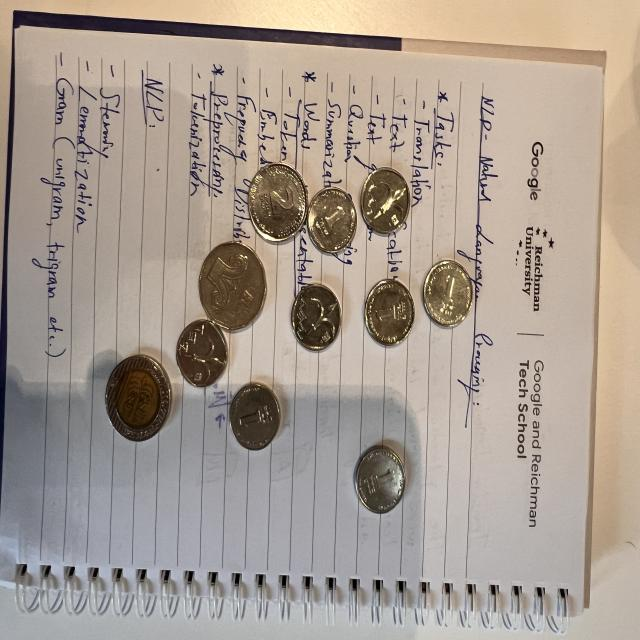1-shekel: (172, 312, 230, 389), (357, 166, 413, 243), (354, 446, 408, 523), (363, 280, 421, 350), (229, 380, 281, 458), (292, 282, 340, 364), (304, 186, 360, 250), (422, 256, 472, 326)
10-shekel: (102, 354, 180, 444)
2-shekel: (248, 163, 309, 249)
5-shekel: (198, 242, 268, 336)
